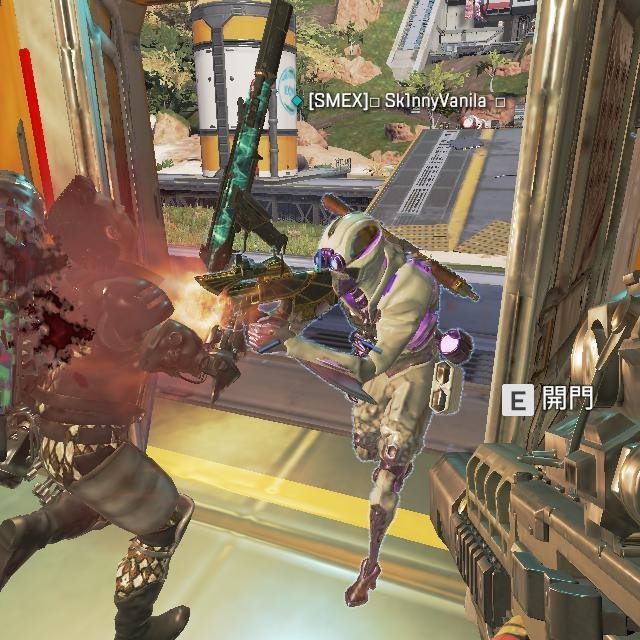avatar: (0, 167, 197, 640), (313, 205, 443, 611)
